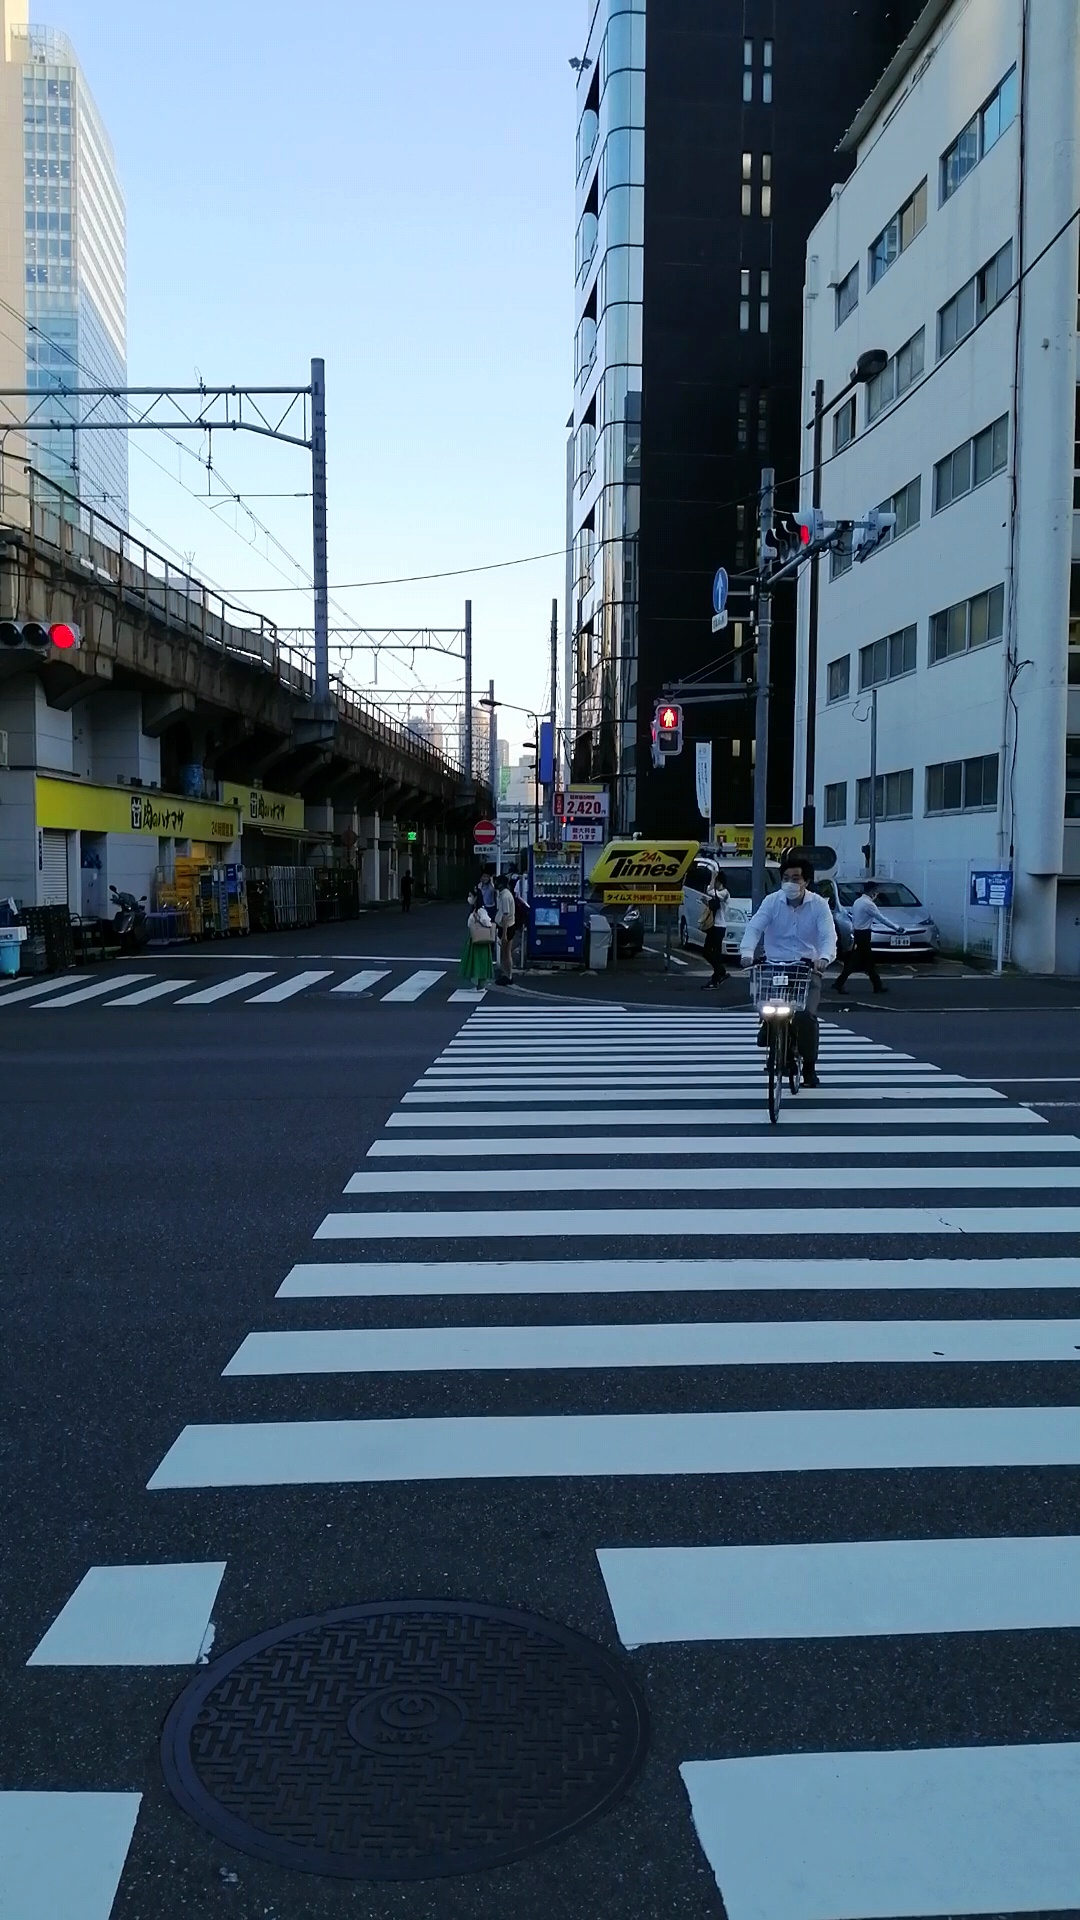red: (651, 702, 683, 757)
